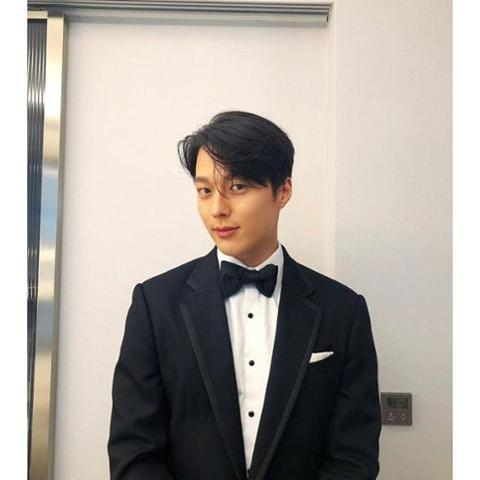opened: (193, 168, 250, 204)
